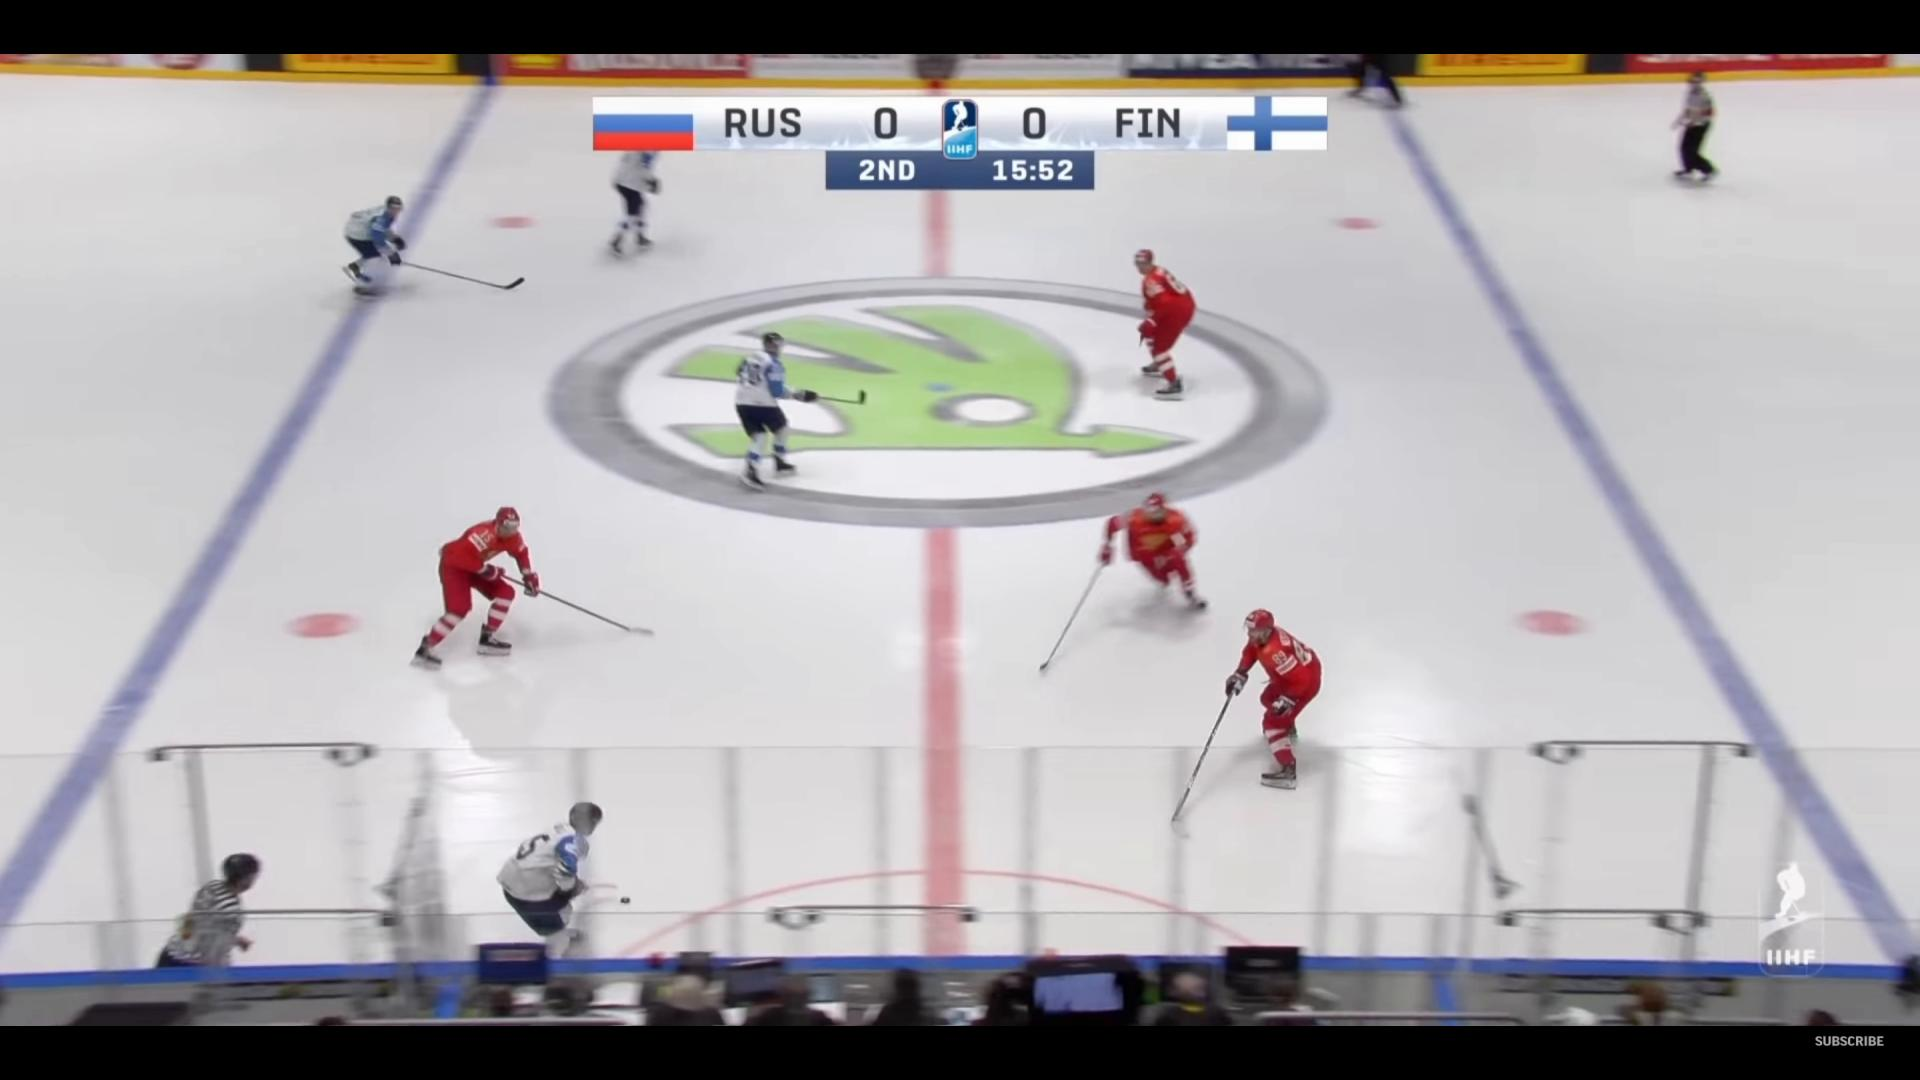puck: (618, 895, 630, 903)
